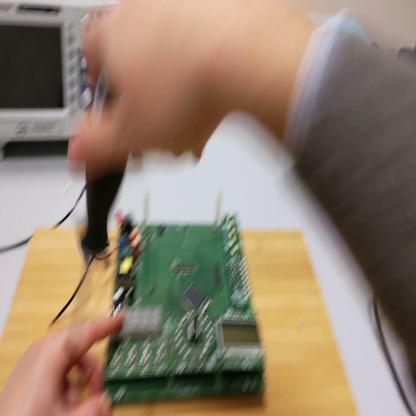hand: (66, 3, 248, 177), (2, 313, 121, 415)
low voltage board: (57, 181, 275, 404)
oscilloscope: (3, 4, 85, 156)
screwdriver-: (78, 69, 130, 348)
working area: (1, 217, 369, 416)
